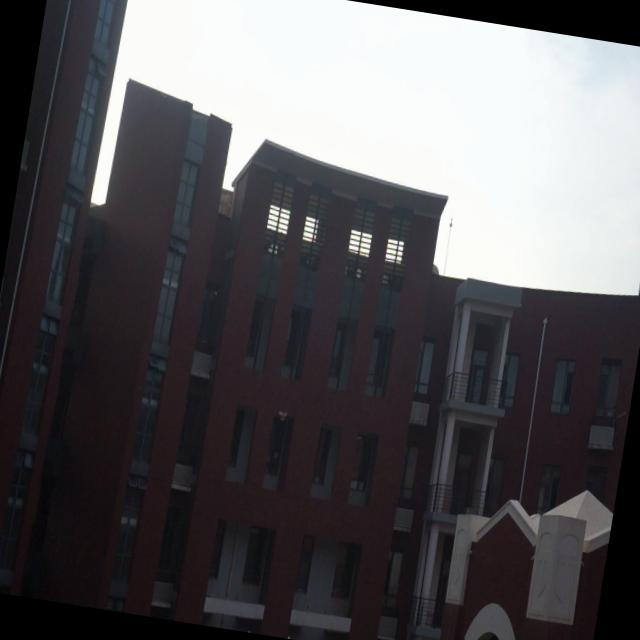drone: (274, 406, 292, 424)
